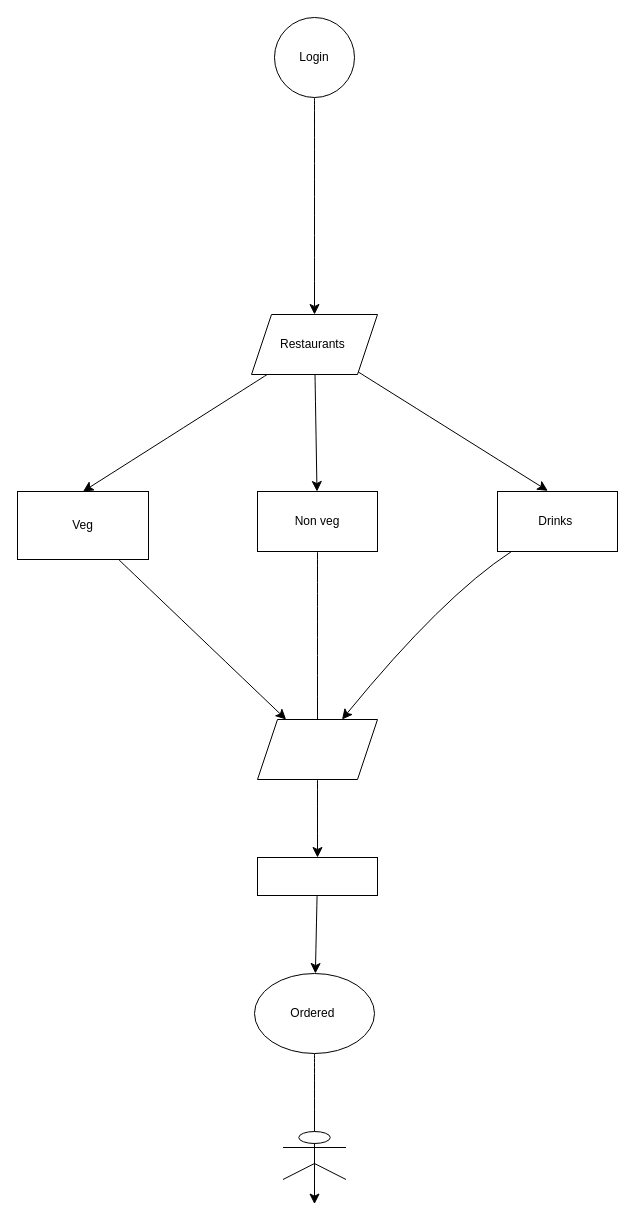
Image size: 635x1221. Some labels were removed from this diagram. Each missing label, with the box of its shape:
Address: (256, 718, 378, 780)
Delivered: (282, 1130, 346, 1180)
Payment: (256, 856, 378, 896)
